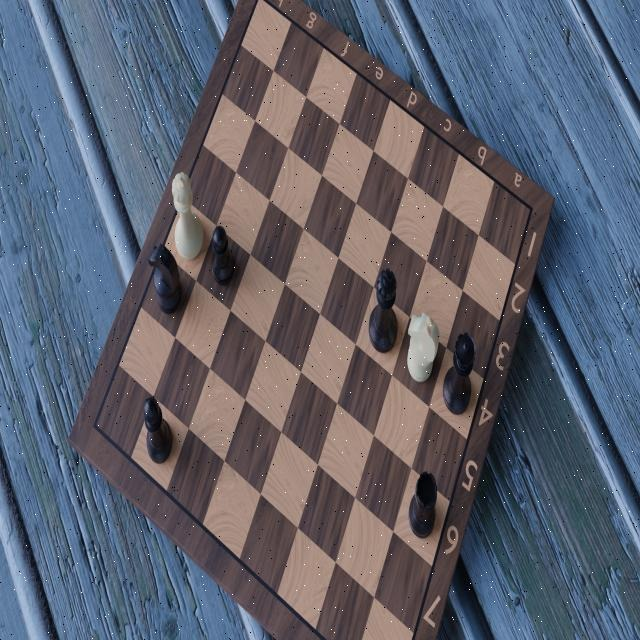black-bishop: (141, 394, 175, 466)
black-king: (366, 264, 397, 356)
black-knight: (148, 238, 184, 313)
black-pawn: (208, 222, 237, 287)
black-queen: (441, 323, 479, 418)
black-rook: (407, 463, 439, 539)
white-king: (170, 171, 206, 269)
white-knight: (406, 302, 438, 386)
